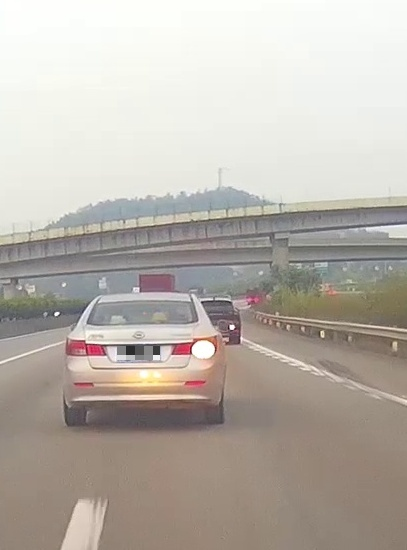L_light: (65, 336, 106, 356)
R_light: (170, 335, 217, 356)
T_light: (137, 301, 151, 303)
day-right: (63, 293, 226, 426)
plate_1: (117, 346, 160, 360)
